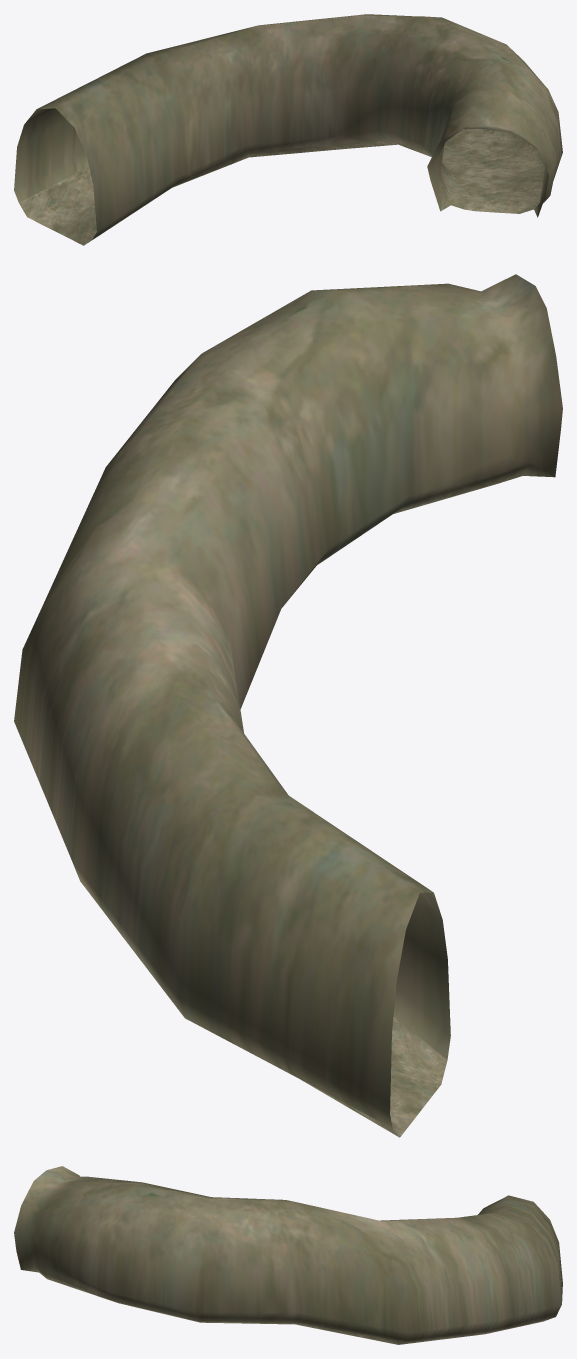
The model's file is OVERHILL_A_01_OH_B_OBJECT44.fbx.
The picture shows the model from 3 angles, top to bottom: view 1: azimuth 30°, elevation 25°; view 2: azimuth 150°, elevation 25°; view 3: azimuth 270°, elevation 25°; orthographic projection. The views are drawn at different scales.
Visible parts, largest first — view 1: OVERHILL_A_01_OH_B_OBJECT44; view 2: OVERHILL_A_01_OH_B_OBJECT44; view 3: OVERHILL_A_01_OH_B_OBJECT44.
Boxes of the visible parts, <box> form: OVERHILL_A_01_OH_B_OBJECT44: <box>14,14,562,245</box>; OVERHILL_A_01_OH_B_OBJECT44: <box>14,274,562,1137</box>; OVERHILL_A_01_OH_B_OBJECT44: <box>14,1166,562,1344</box>.
Bounding box in the file's own units: 88277 × 65888 × 137038.
1 material, 1 textured.
